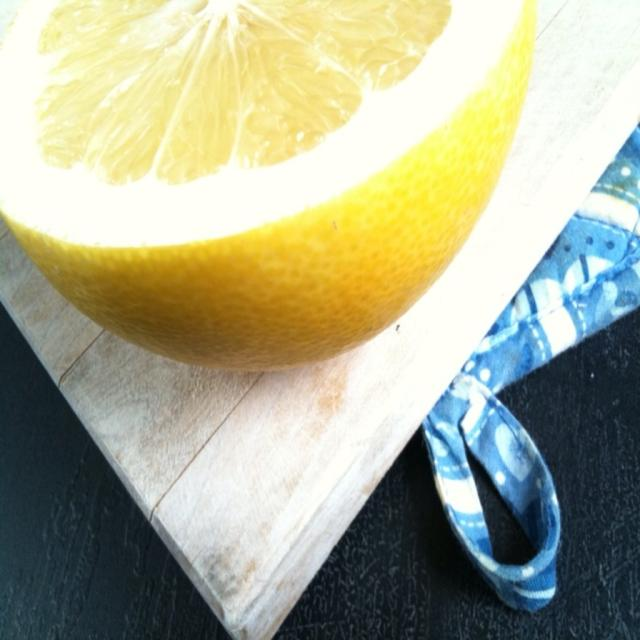Lemon: (0, 0, 536, 372)
